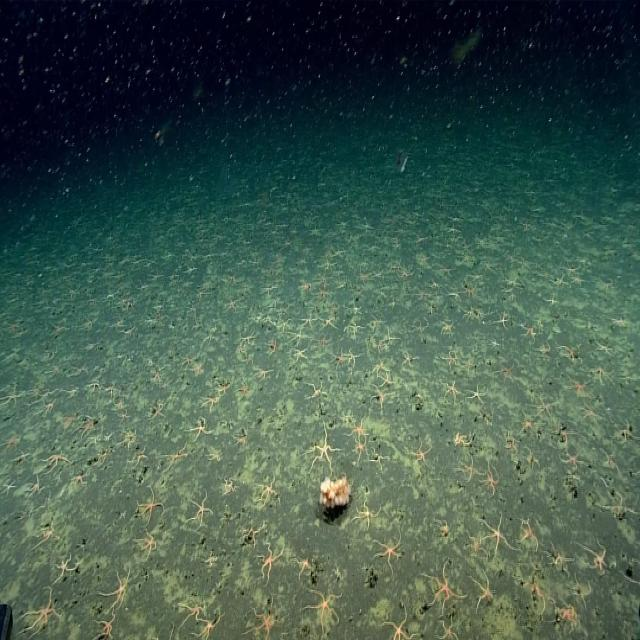brittle-stars: (428, 565, 462, 611), (24, 590, 59, 632), (308, 589, 341, 628), (311, 426, 337, 474), (250, 603, 281, 640), (103, 568, 132, 605), (374, 534, 402, 572), (256, 543, 283, 580), (382, 610, 413, 640), (136, 488, 163, 522), (484, 516, 509, 552), (581, 542, 608, 574), (187, 492, 210, 528), (256, 475, 280, 509), (54, 552, 80, 583), (605, 491, 636, 517), (526, 576, 548, 612), (163, 442, 190, 471), (196, 612, 223, 640), (180, 594, 205, 624), (556, 599, 578, 631), (471, 575, 493, 607), (355, 500, 378, 530), (549, 544, 571, 575), (547, 424, 577, 446), (237, 524, 268, 544), (36, 520, 58, 548), (137, 529, 158, 558), (520, 520, 540, 550), (95, 614, 117, 640), (294, 554, 316, 580), (482, 464, 501, 494), (533, 395, 556, 419), (458, 456, 478, 483), (561, 448, 584, 471), (616, 421, 640, 443), (46, 448, 70, 469), (411, 441, 431, 466), (190, 418, 212, 440), (1, 384, 23, 406), (1, 431, 22, 454), (582, 404, 602, 428), (469, 534, 487, 560), (591, 363, 613, 384), (558, 344, 581, 364), (628, 562, 640, 600), (466, 384, 486, 406), (496, 360, 516, 382), (568, 376, 588, 398), (34, 398, 54, 420), (519, 412, 537, 436), (372, 387, 392, 408), (80, 416, 98, 439), (350, 415, 367, 439), (601, 449, 618, 473), (440, 620, 460, 640), (25, 475, 41, 499), (0, 478, 18, 499), (445, 380, 461, 403), (152, 624, 175, 640), (454, 430, 472, 450), (309, 381, 327, 400), (240, 328, 258, 347), (594, 340, 612, 359), (442, 349, 459, 369), (119, 427, 136, 447), (34, 388, 55, 404), (353, 438, 368, 460), (345, 319, 363, 337), (290, 345, 308, 363), (367, 312, 384, 331), (234, 430, 250, 450), (372, 449, 388, 469), (401, 347, 416, 368), (237, 380, 252, 401), (131, 447, 146, 468), (254, 364, 272, 381), (202, 394, 220, 411), (412, 319, 429, 337), (16, 448, 34, 465), (148, 403, 164, 422), (524, 320, 540, 339), (221, 477, 236, 497), (524, 449, 539, 469), (322, 317, 339, 334), (534, 342, 550, 360), (494, 311, 509, 330), (346, 348, 361, 367), (464, 356, 479, 375), (435, 518, 449, 538), (504, 436, 518, 456), (290, 329, 306, 346), (72, 471, 87, 489), (216, 379, 231, 397), (316, 334, 331, 352), (441, 318, 456, 336), (202, 550, 217, 568), (464, 281, 478, 300), (334, 349, 348, 368), (397, 264, 416, 278), (302, 313, 318, 329), (72, 361, 88, 377), (206, 448, 222, 464), (505, 275, 522, 290), (447, 285, 462, 302), (61, 413, 76, 430), (46, 363, 63, 378), (380, 373, 394, 391), (277, 317, 292, 333), (552, 274, 568, 289), (50, 322, 70, 334), (267, 338, 281, 355), (374, 359, 388, 376), (227, 295, 240, 313), (191, 359, 204, 376), (150, 269, 164, 284), (316, 285, 330, 300), (89, 378, 103, 393), (263, 281, 277, 296), (95, 451, 108, 467), (427, 278, 441, 292), (441, 264, 454, 279), (105, 382, 117, 398), (542, 294, 558, 306), (117, 410, 130, 424), (180, 354, 193, 368), (122, 324, 135, 338), (489, 337, 501, 352), (332, 564, 342, 582), (64, 388, 79, 399), (465, 305, 476, 320), (472, 309, 488, 319), (202, 334, 218, 343), (118, 398, 128, 412)
